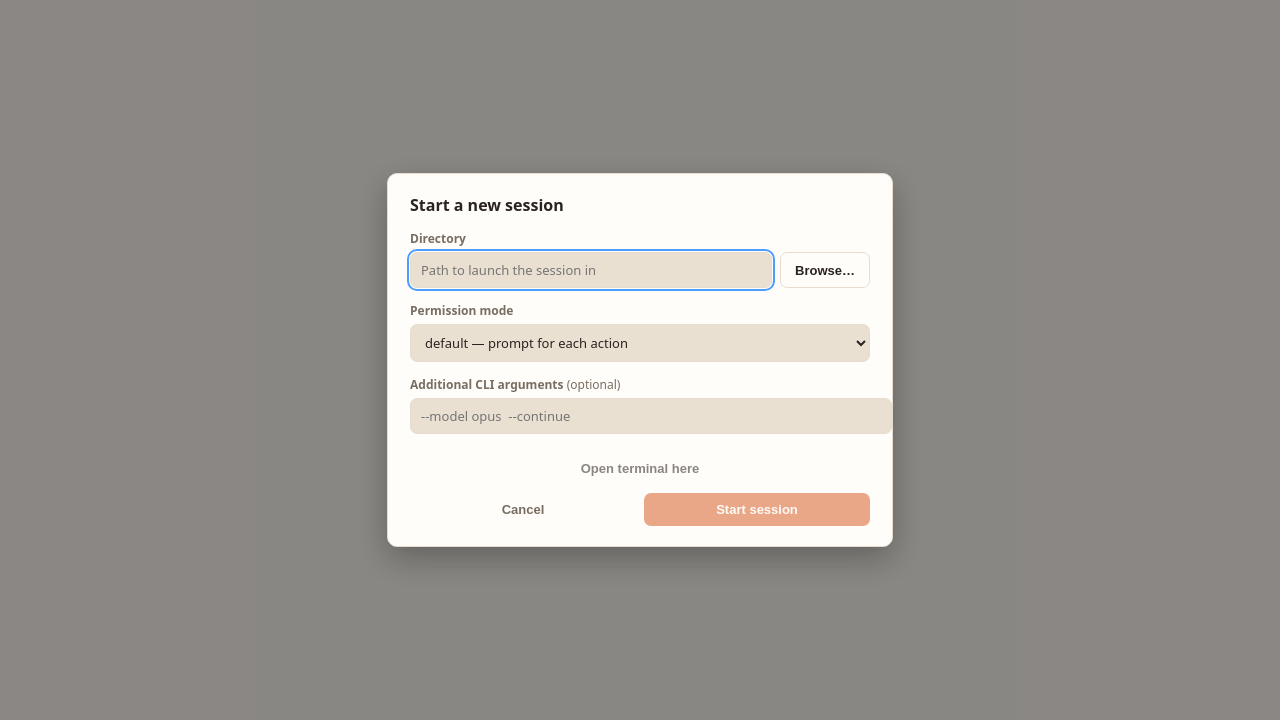
NewSessionModal (#165) › disables launch and terminal when the directory is empty
Expected: the button with test id "new-session-launch" is disabled, [644,493,870,526]
Expected: the button with test id "new-session-terminal" is disabled, [410,452,870,485]
Type "C:\\x" into the field labelled "Directory" at (591, 270), box [410,252,772,288]
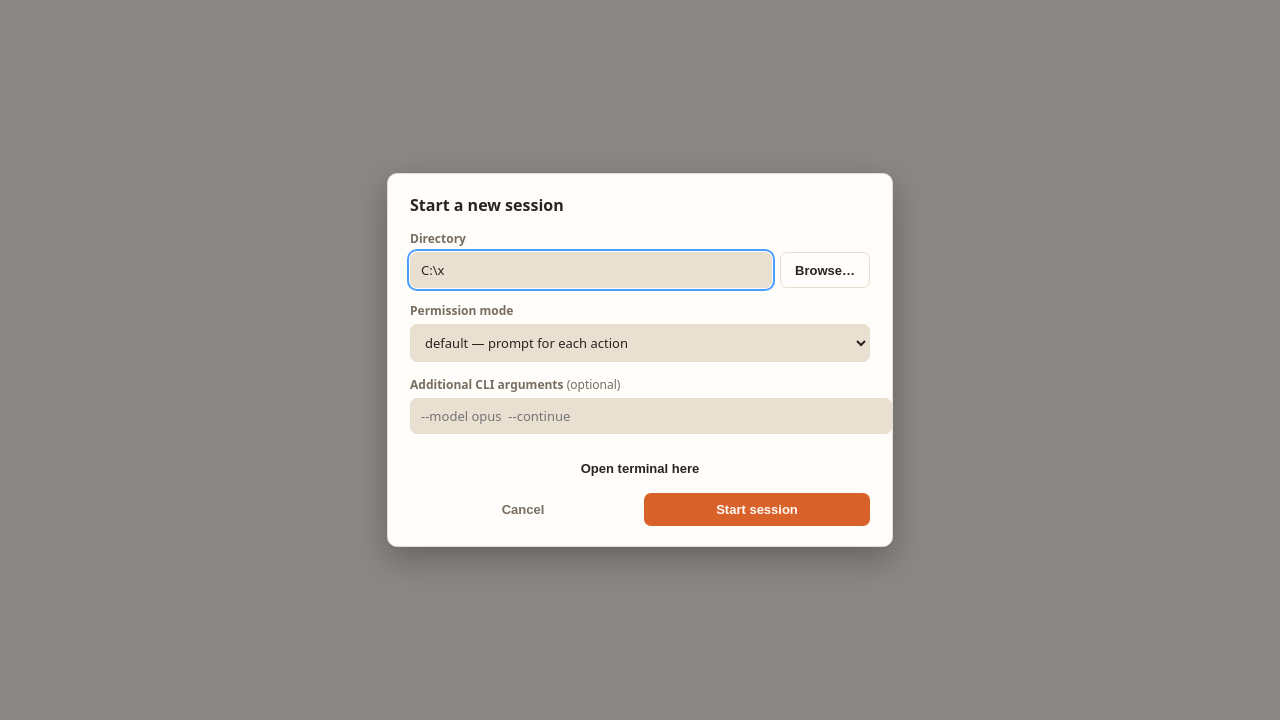
Expected: the button with test id "new-session-launch" is enabled, [644,493,870,526]
